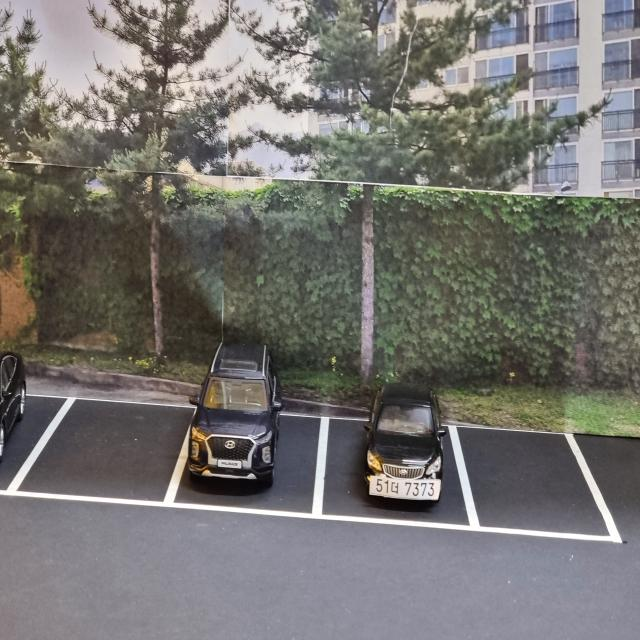car: (185, 342, 282, 484), (360, 378, 450, 508)
free: (449, 424, 622, 552), (20, 400, 195, 514)
